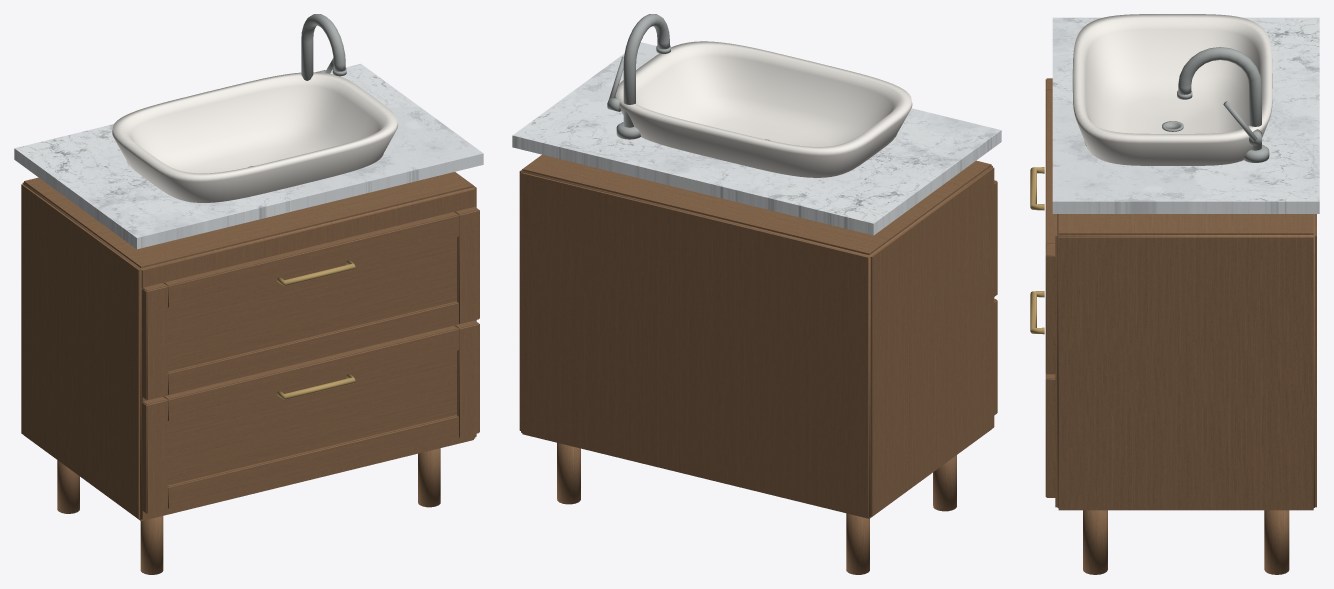
The model's file is traditional.vanity.gltf.
3 views of the same model, side by side, from view 1: azimuth 30°, elevation 25°; view 2: azimuth 150°, elevation 25°; view 3: azimuth 270°, elevation 25° (orthographic). The views are drawn at different scales.
Parts seen in each view (by area): view 1: traditional.vanity.foot; view 2: traditional.vanity.foot; view 3: traditional.vanity.foot.
Boxes of the visible parts, <box> form: traditional.vanity.foot: <box>14,14,483,574</box>; traditional.vanity.foot: <box>512,14,1001,574</box>; traditional.vanity.foot: <box>1030,14,1319,574</box>.
Bounding box in the file's own units: 0.8 × 1.01 × 0.531.
5 materials, 2 textured.
